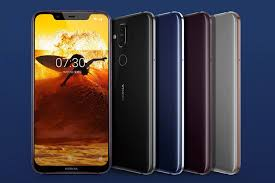nokia: (30, 9, 115, 179)
